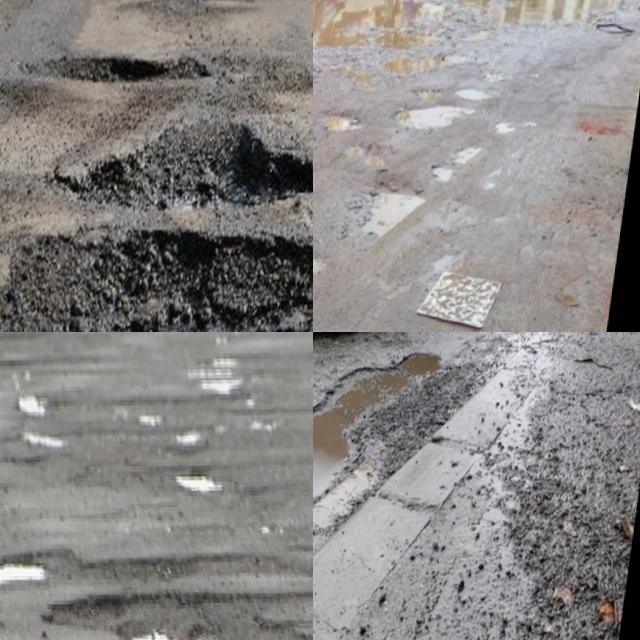Potholes: (44, 71, 313, 291), (0, 176, 313, 332), (313, 332, 504, 578), (313, 0, 504, 185), (35, 14, 221, 157), (373, 0, 640, 91), (338, 165, 449, 278), (0, 361, 90, 488), (0, 527, 91, 640), (178, 340, 268, 452), (109, 584, 242, 640), (313, 92, 386, 182), (153, 0, 257, 48)
